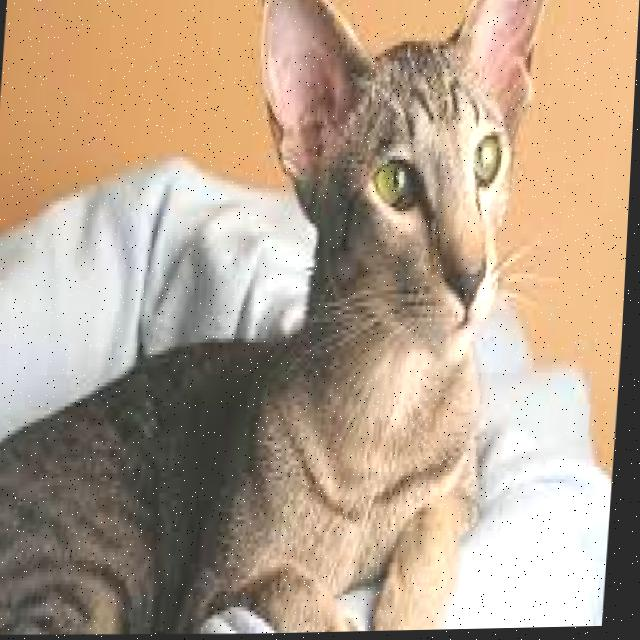Oriental: (0, 0, 554, 640)
